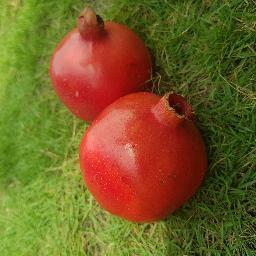Good_pomegranate: (83, 96, 208, 220), (56, 7, 153, 116)
